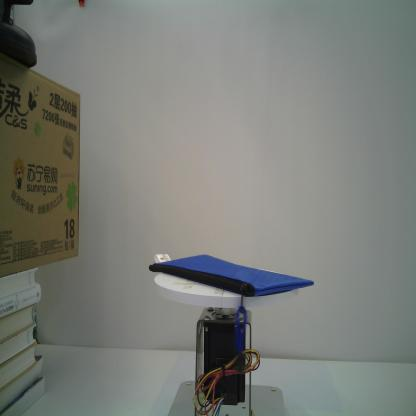Stationery: (146, 250, 314, 374)
